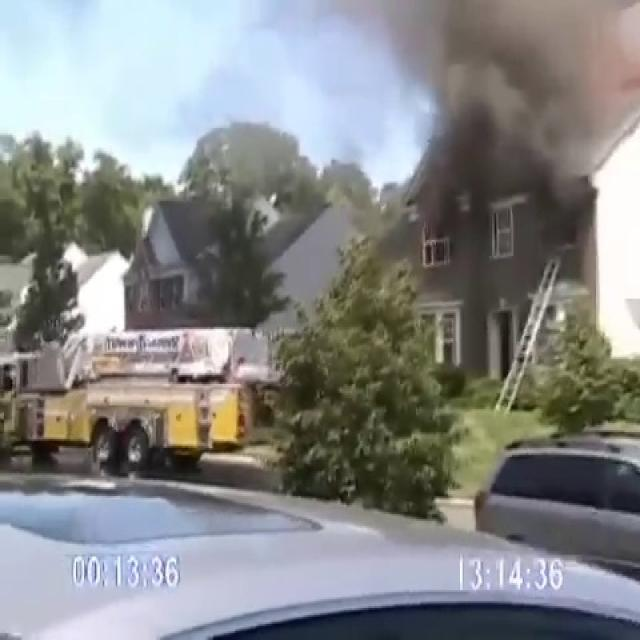Smoke: (348, 0, 640, 194)
